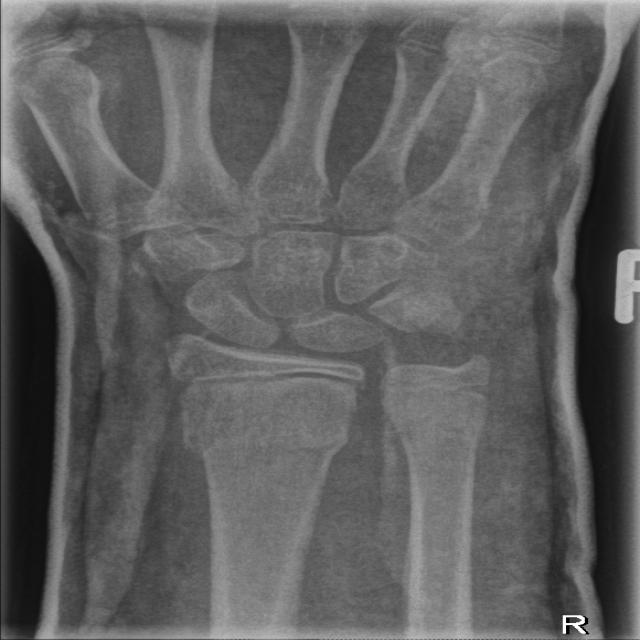radius fracture: (177, 398, 361, 496)
